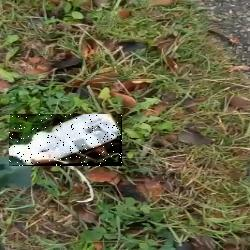plastic: (9, 114, 122, 166)
